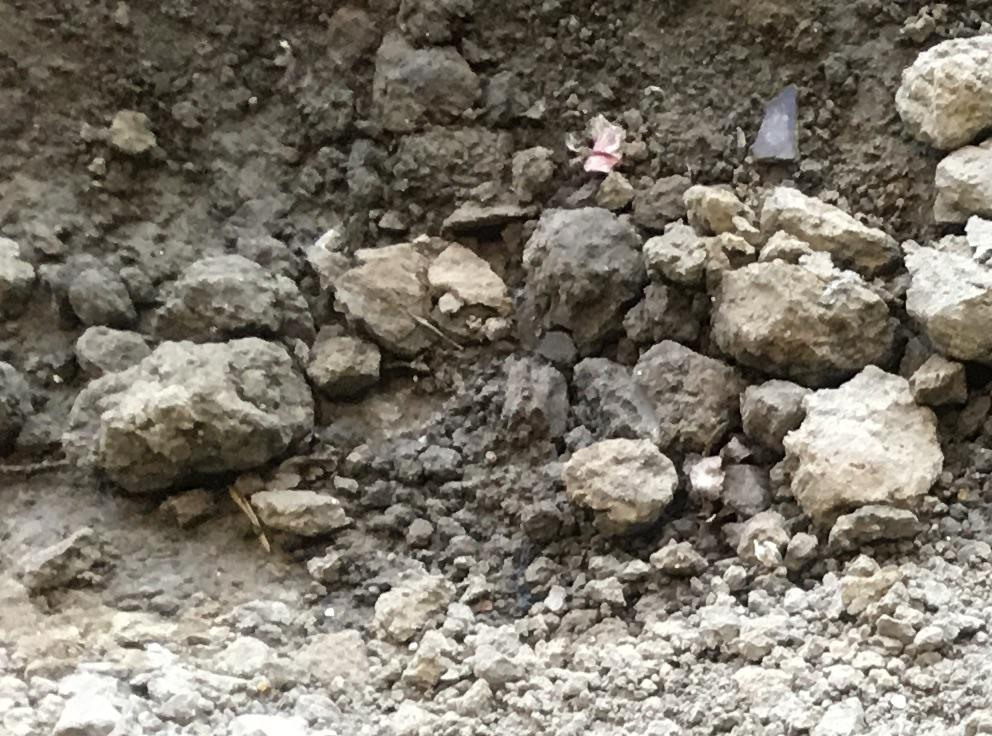block: (64, 343, 324, 483), (788, 367, 944, 517), (708, 259, 898, 377), (515, 205, 635, 344), (893, 32, 992, 150), (901, 243, 990, 363)
